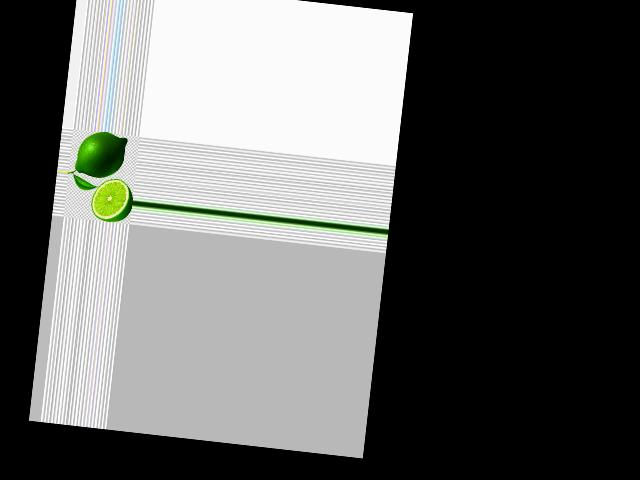lemon: (72, 130, 130, 182)
